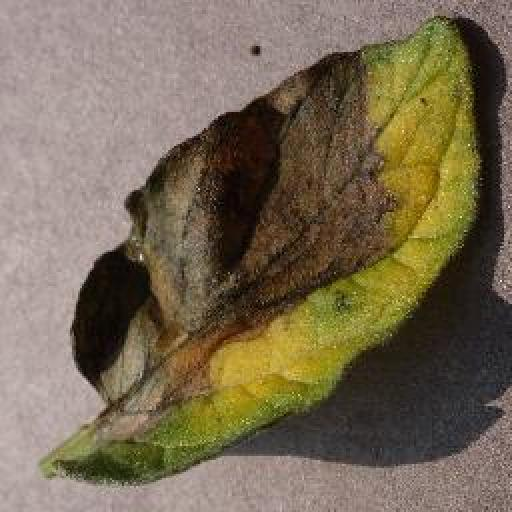disease_tomato: (54, 16, 480, 484)
